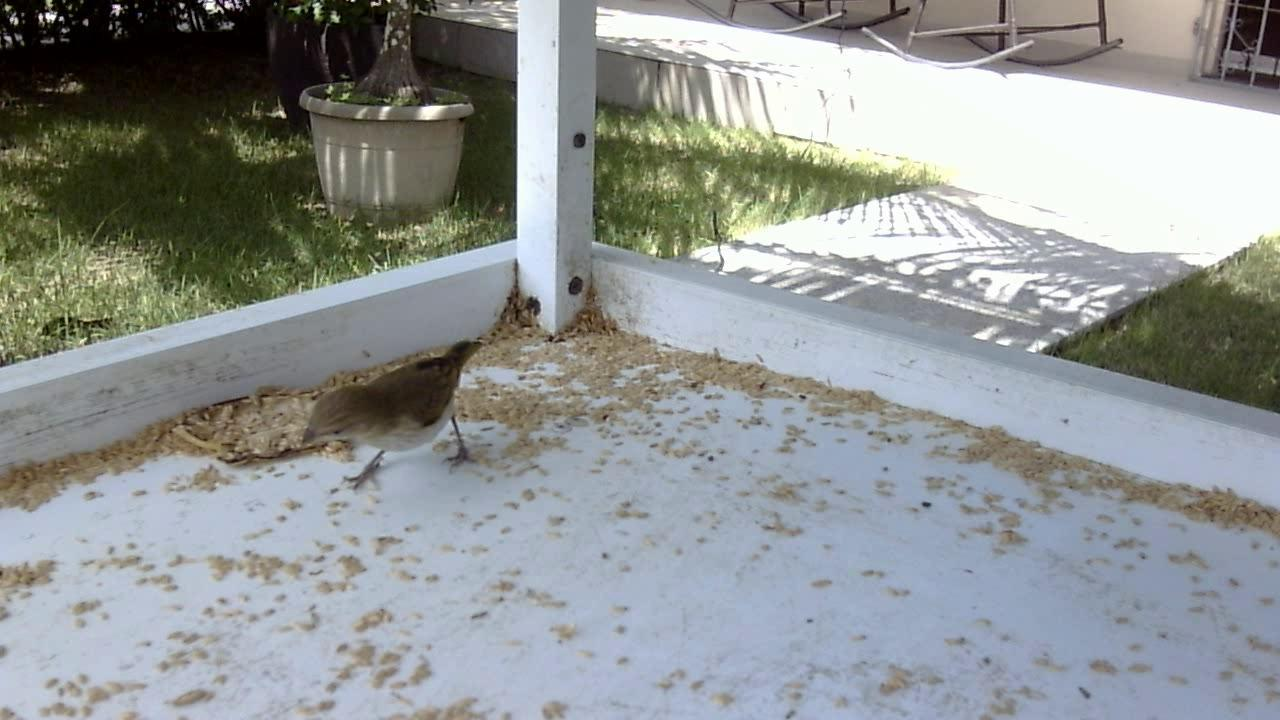canario_do_amazonas: (220, 332, 504, 497)
